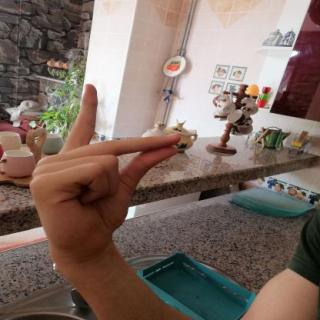TAA: (18, 76, 194, 270)
